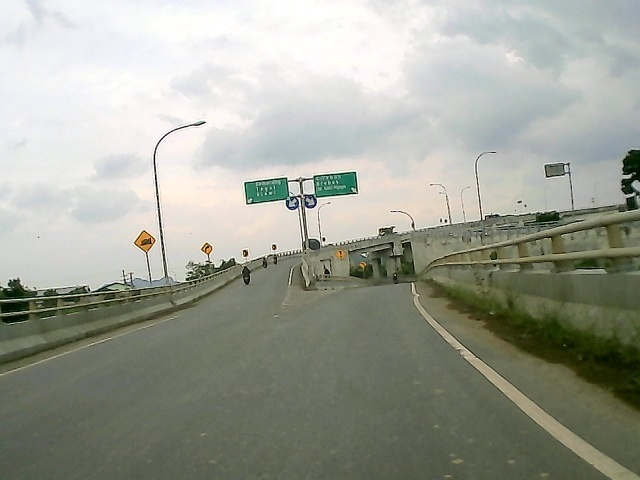Hati-hati: (335, 249, 347, 262)
Jalanan menanjak: (134, 229, 156, 253)
Tikungan ke kanan: (200, 241, 212, 255)
